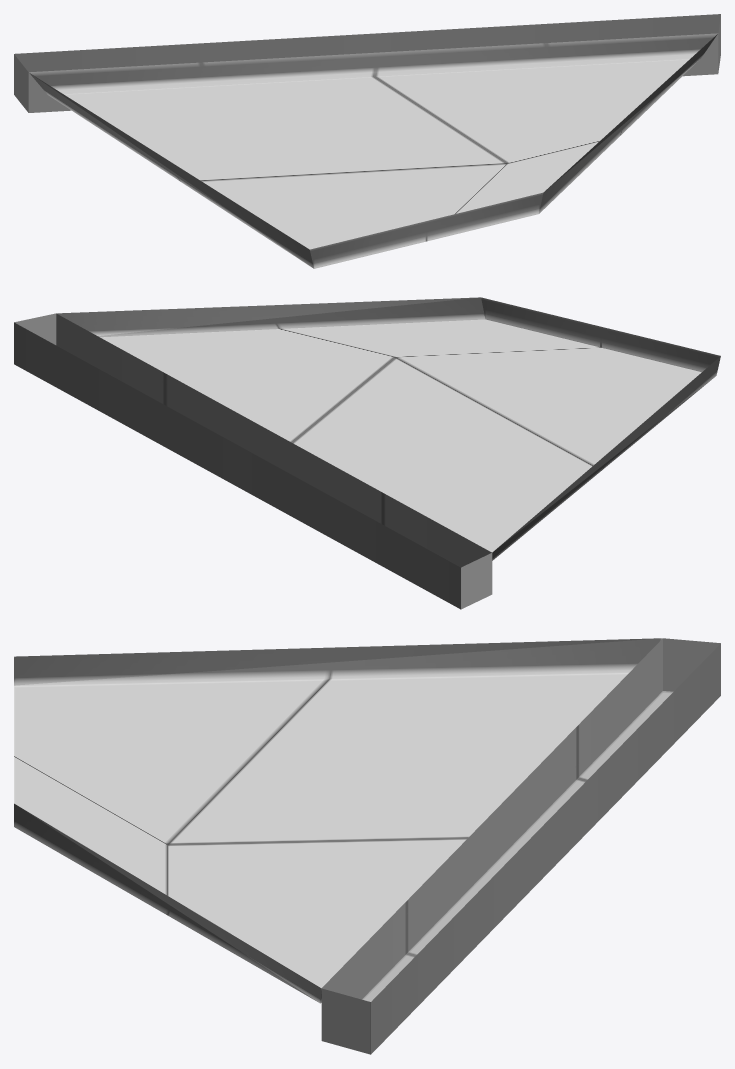
The model's file is PavementDiagonal2.fbx.
3 renders of one model, top to bottom at view 1: azimuth 30°, elevation 25°; view 2: azimuth 150°, elevation 25°; view 3: azimuth 270°, elevation 25°, orthographic. The views are drawn at different scales.
Visible parts, largest first — view 1: Straight; view 2: Straight; view 3: Straight.
Part boxes in pixels (x1,y1,x2,y2): Straight: [14, 14, 720, 268]; Straight: [14, 297, 720, 609]; Straight: [14, 638, 720, 1054].
Size of the model in its own units: 2.96 by 0.2 by 2.43.
